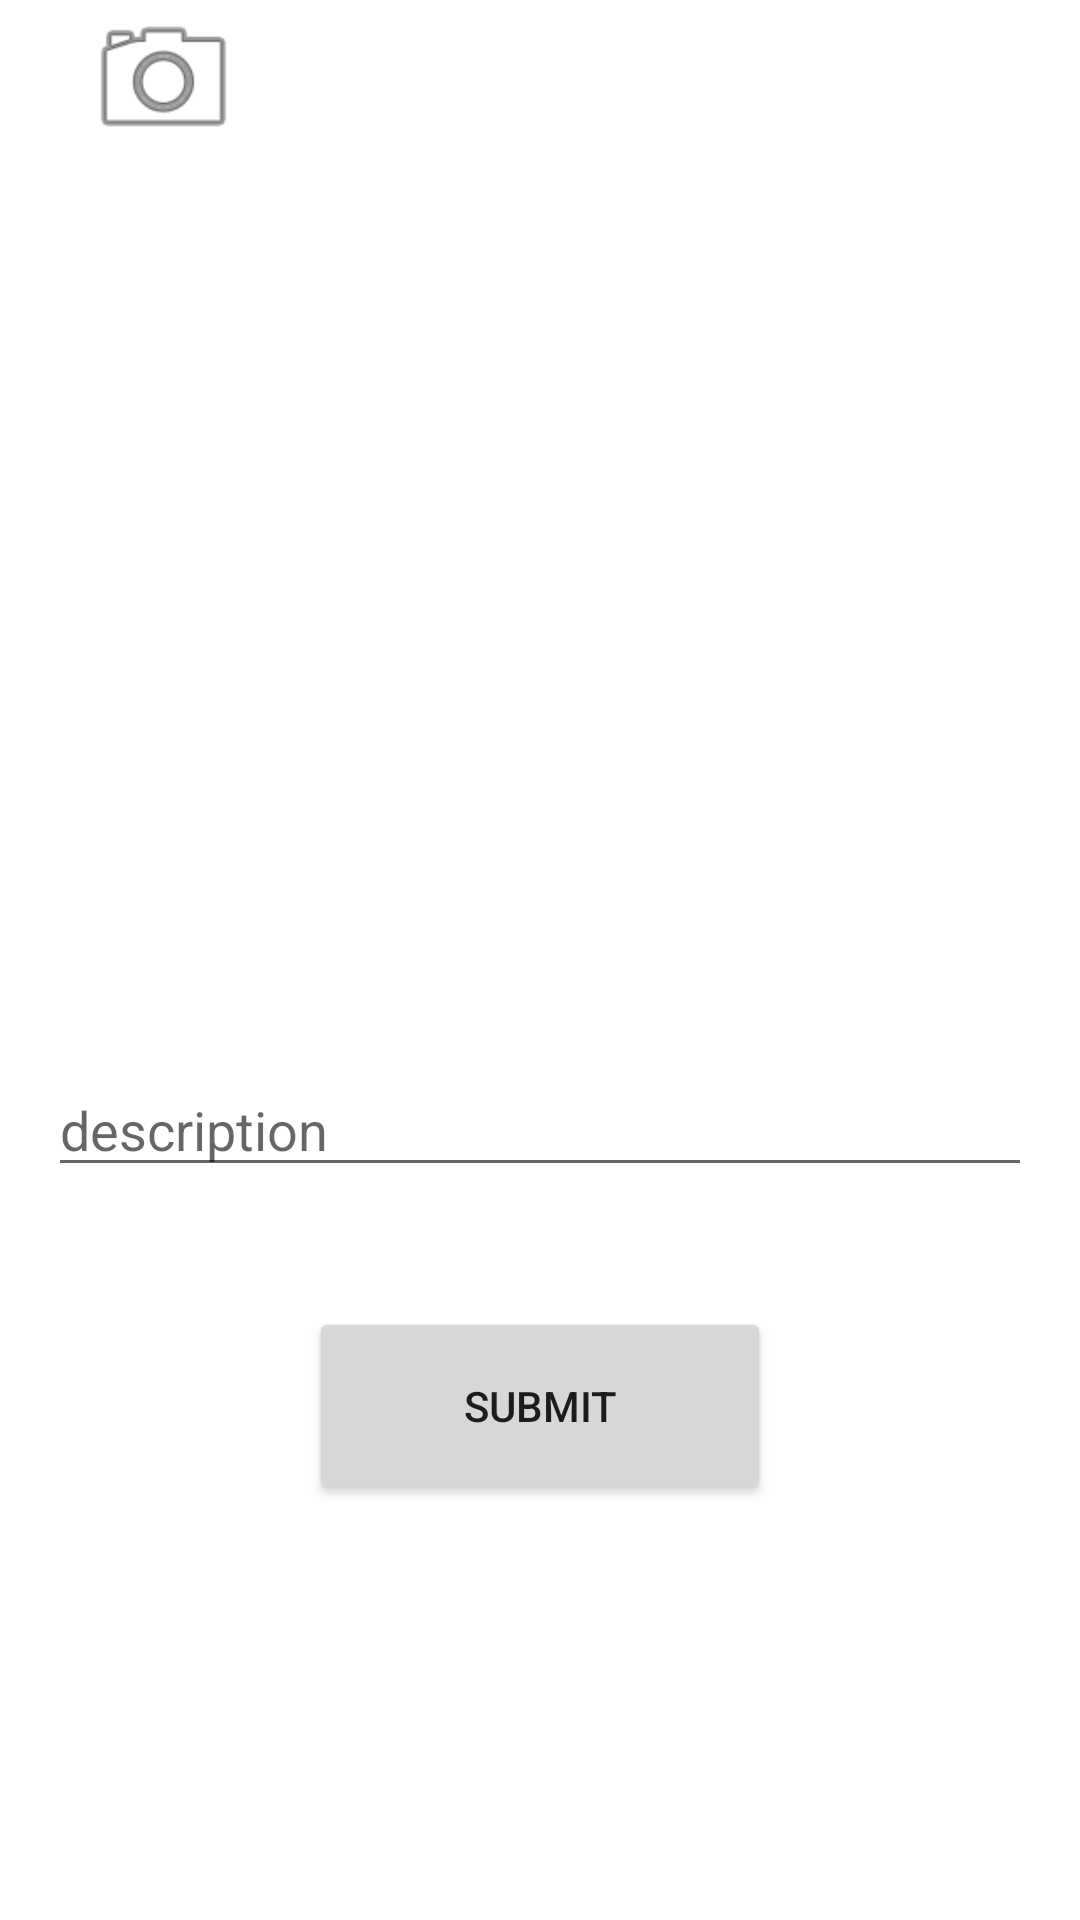

Screen size 1080×1920. Icon name, then its center in pixels as [x,y]:
camera: [163,76]
